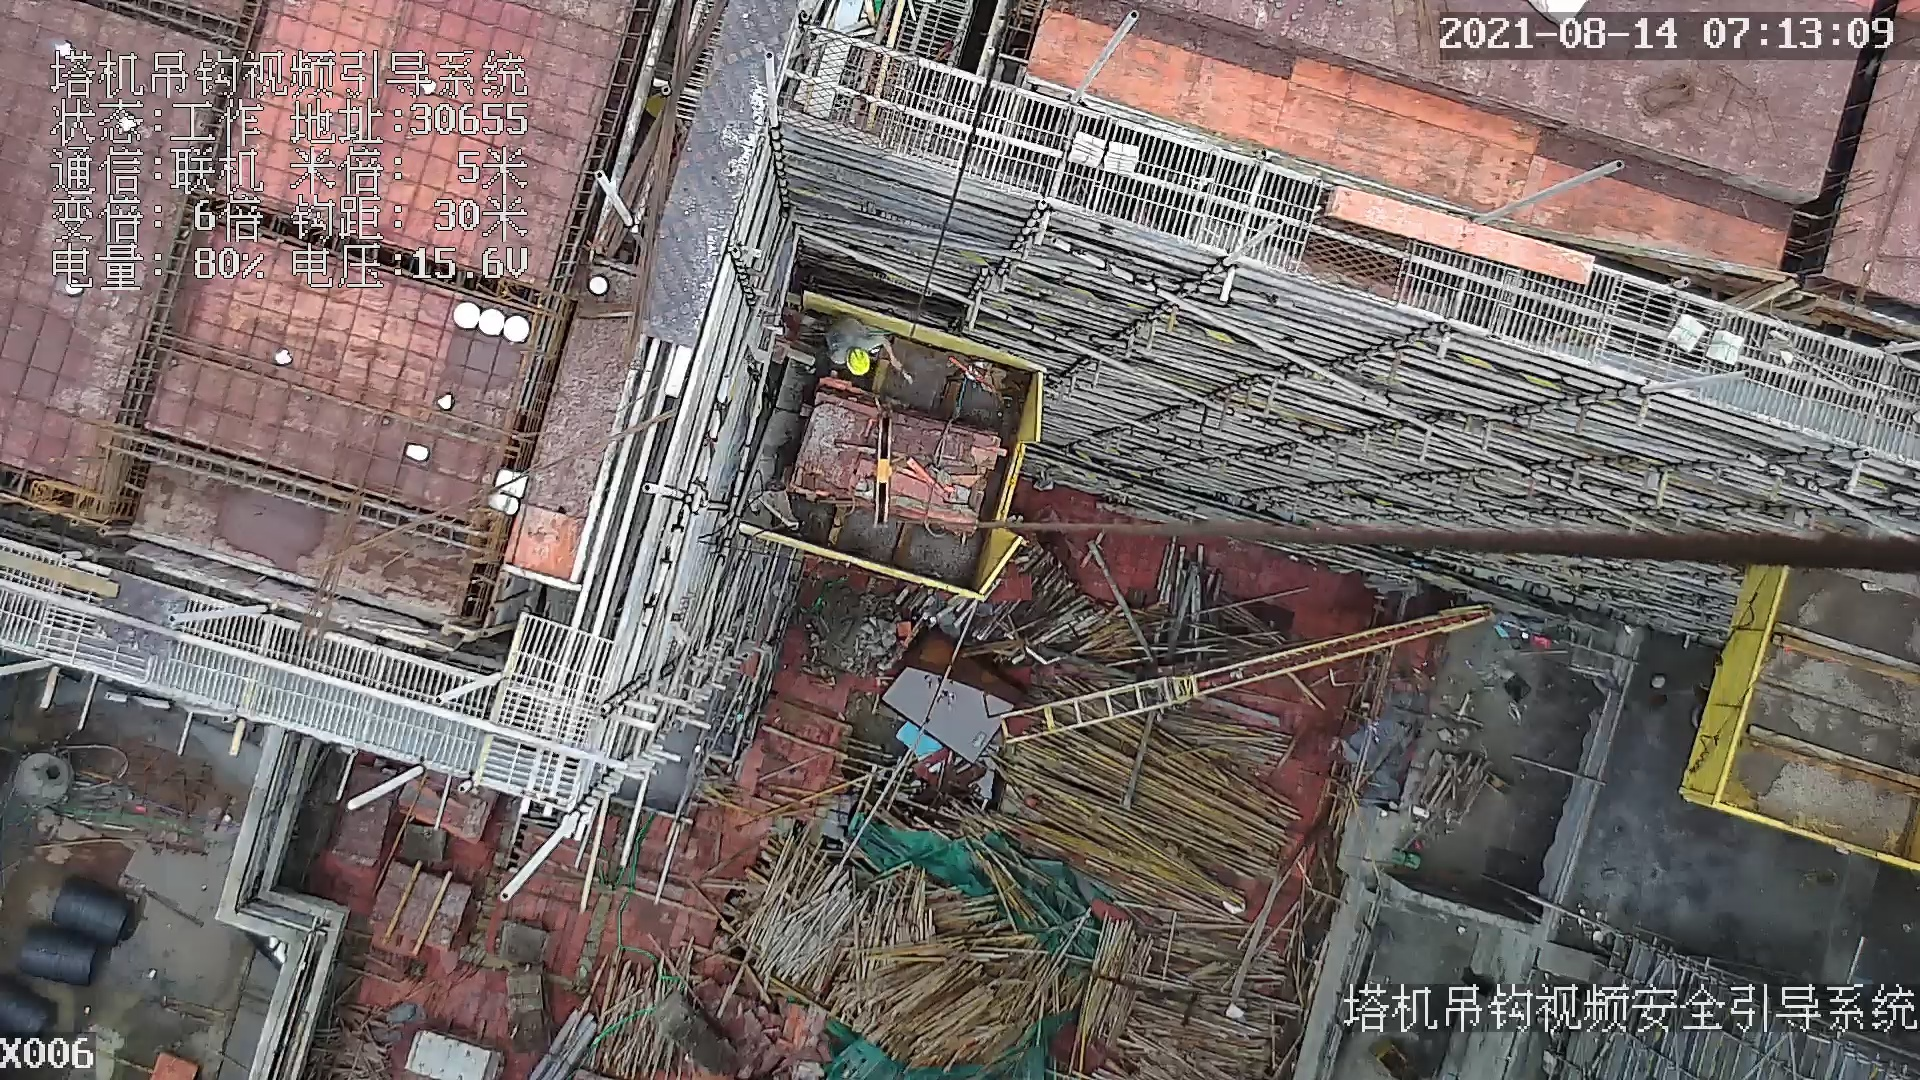helmet: (829, 340, 881, 380)
hook: (865, 413, 896, 531)
person: (824, 315, 908, 378)
